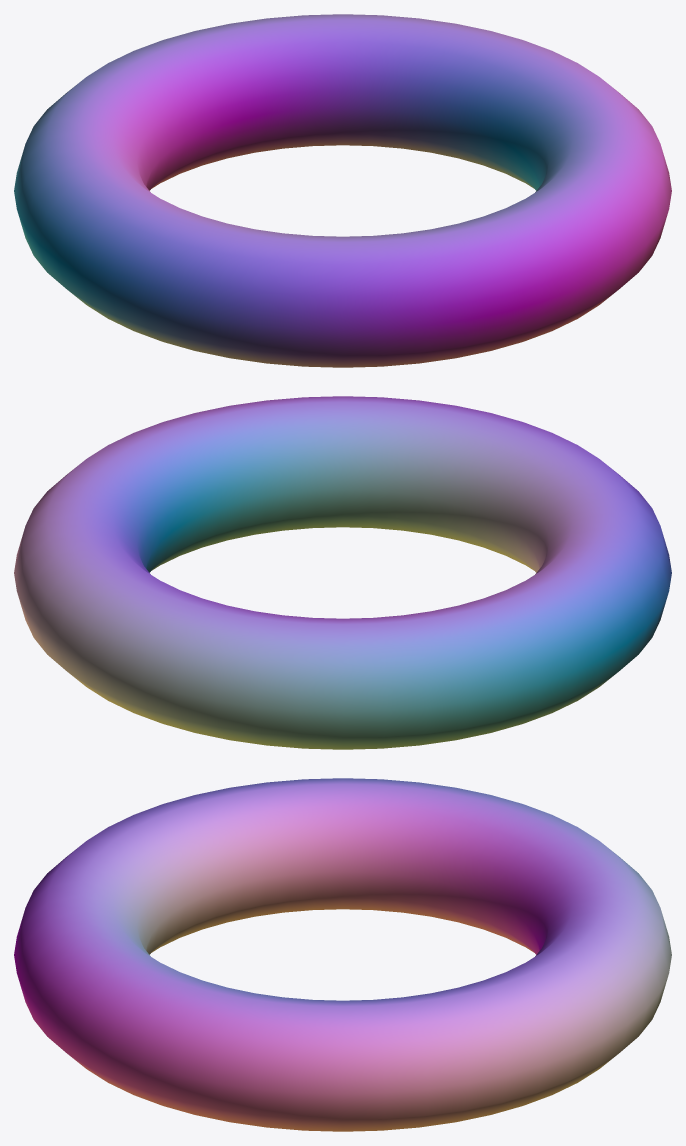
The picture shows the model from 3 angles, top to bottom: view 1: azimuth 30°, elevation 25°; view 2: azimuth 150°, elevation 25°; view 3: azimuth 270°, elevation 25°; orthographic projection.
Parts seen in each view (by area): view 1: Torus; view 2: Torus; view 3: Torus.
Boxes of the visible parts, x1,y1,x2,y2 form: Torus: (14,14,671,367); Torus: (14,396,671,749); Torus: (14,778,671,1131).
Size of the model in its own units: 250 by 50 by 250.
